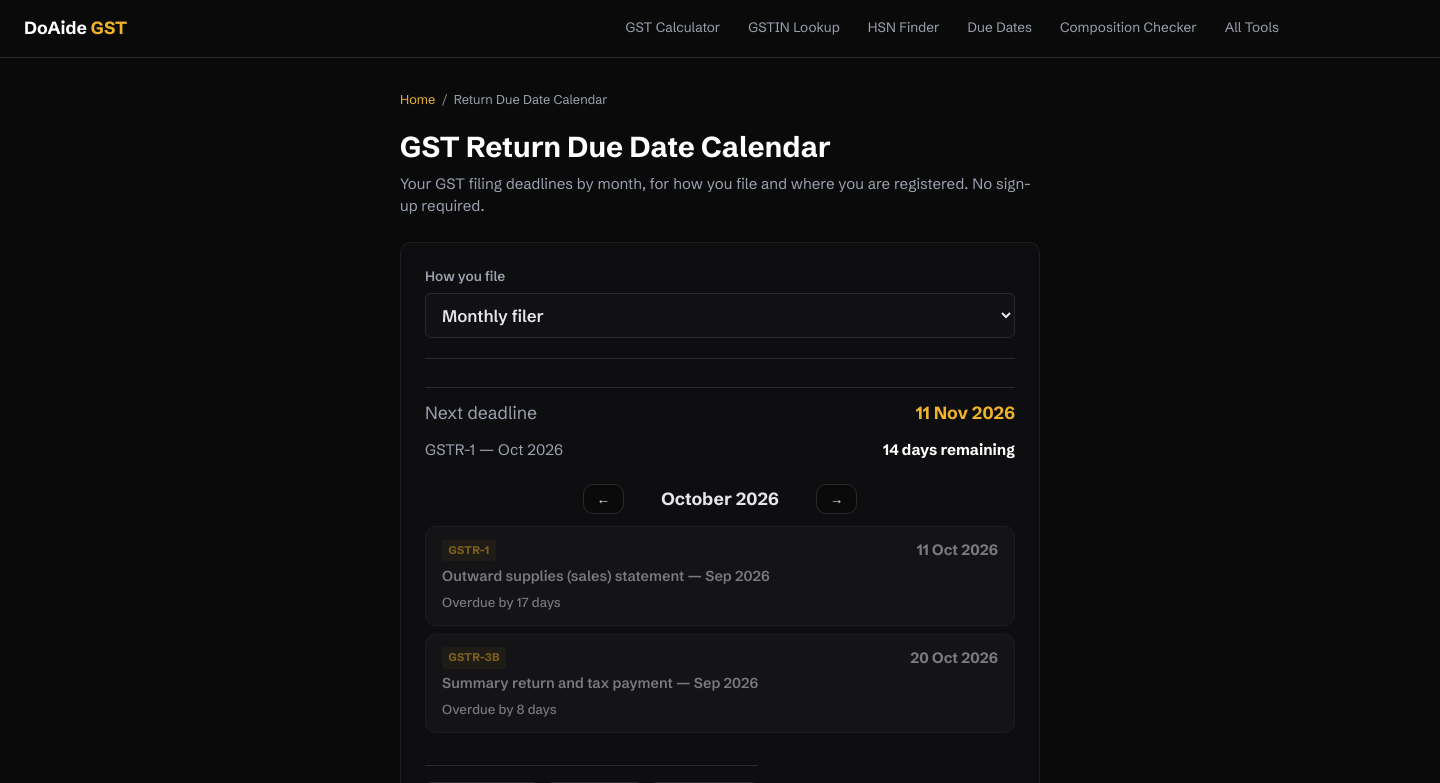
Scenario: ReturnDueDateCalendarPage › marks the next deadline in the month view
Click the button named "Next month": (837, 499) x1=816 y1=484 x2=857 y2=514
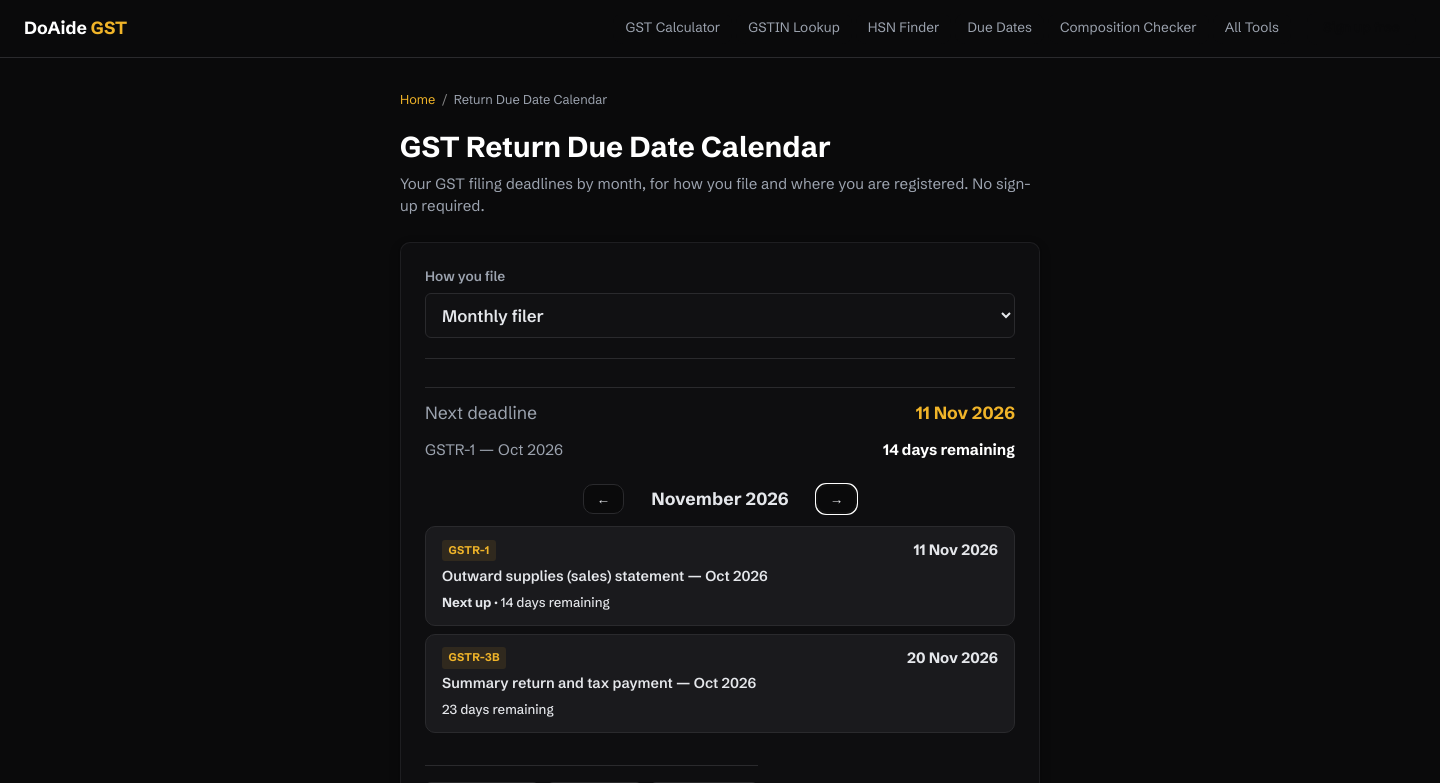
Expected: the element with class "calendar-date-card" does not show "Next up"
Now the text "November 2026" is shown, box x1=640 y1=486 x2=800 y2=513
Now the element with class "calendar-date-card" shows "Next up", box x1=442 y1=594 x2=501 y2=610
